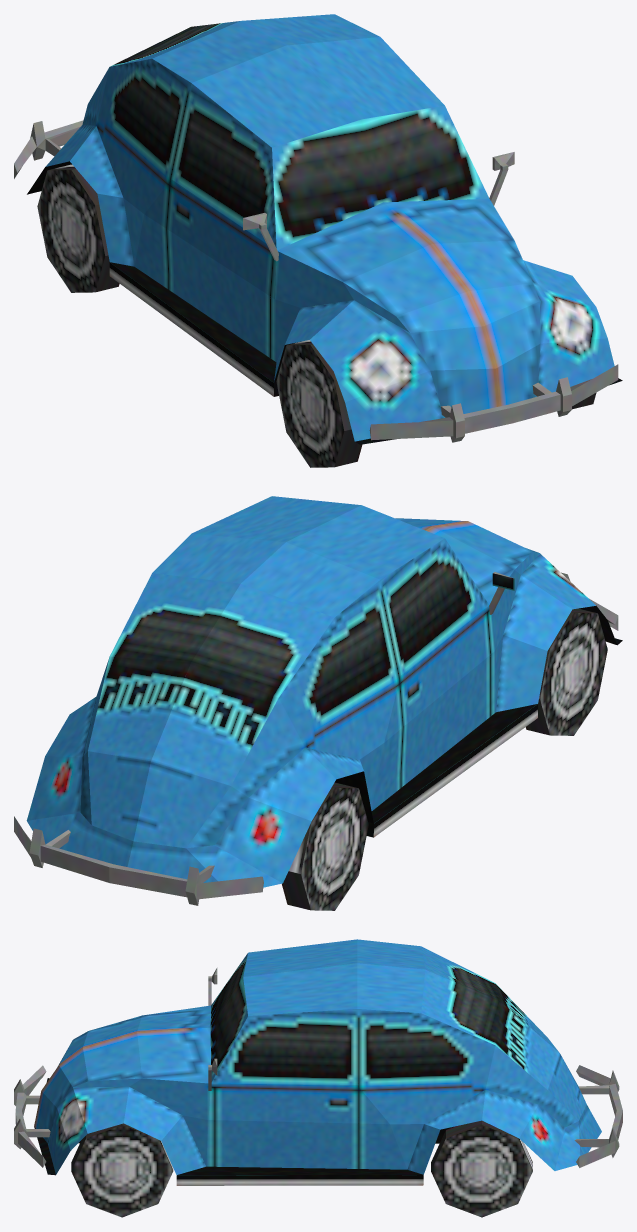
Rendered from petaazul.fbx.
The picture shows the model from 3 angles, top to bottom: view 1: azimuth 30°, elevation 25°; view 2: azimuth 150°, elevation 25°; view 3: azimuth 270°, elevation 25°; orthographic projection. The views are drawn at different scales.
Visible parts, largest first — view 1: compact_classic; view 2: compact_classic; view 3: compact_classic.
Boxes of the visible parts, box(x1,y1,x2,y2) form: compact_classic: box(14, 14, 622, 467); compact_classic: box(14, 496, 622, 910); compact_classic: box(14, 939, 622, 1217).
Size of the model in its own units: 158 by 153 by 406.
1 material, 1 textured.
